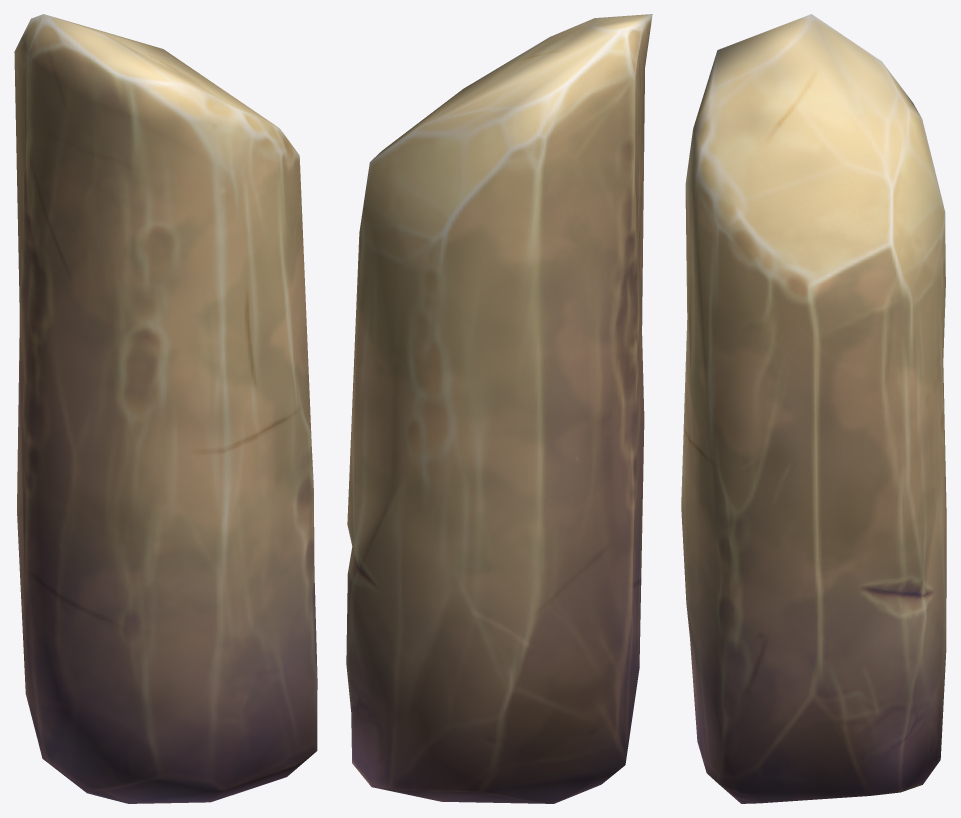
File: SM_Gem_Moonstone_008.fbx
The picture shows the model from 3 angles, left to right: view 1: azimuth 30°, elevation 25°; view 2: azimuth 150°, elevation 25°; view 3: azimuth 270°, elevation 25°; orthographic projection. The views are drawn at different scales.
Visible parts, largest first — view 1: SM_Gem_Moonstone_008; view 2: SM_Gem_Moonstone_008; view 3: SM_Gem_Moonstone_008.
Part boxes in pixels (bbox=[...]): SM_Gem_Moonstone_008: bbox=[14, 14, 317, 803]; SM_Gem_Moonstone_008: bbox=[346, 14, 652, 803]; SM_Gem_Moonstone_008: bbox=[681, 14, 946, 803].
Bounding box in the file's own units: 27.79 × 75.94 × 25.99.
